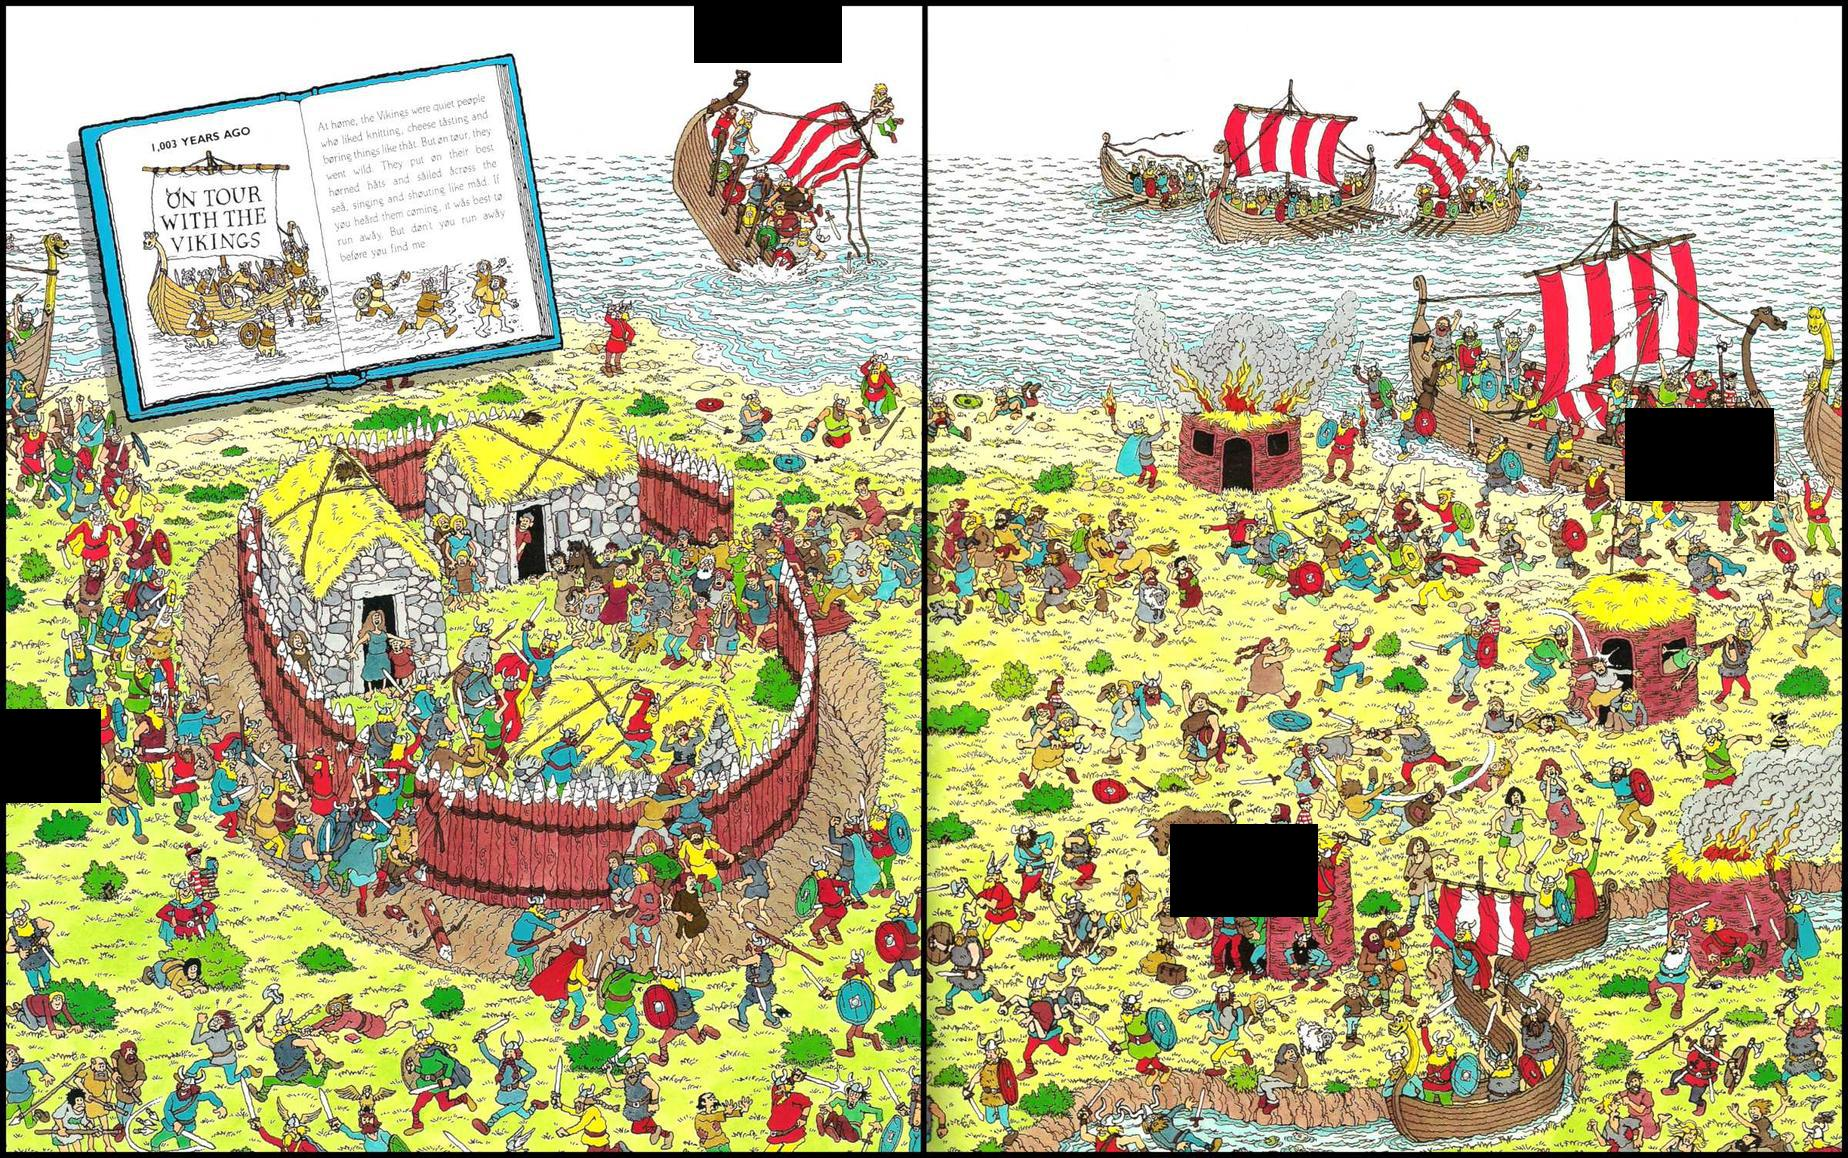waldo: (183, 840, 220, 875)
